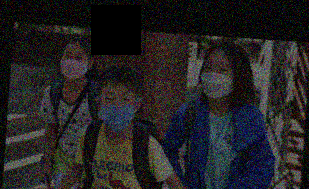with_mask: (98, 88, 137, 132), (201, 58, 234, 101), (59, 50, 89, 80)
